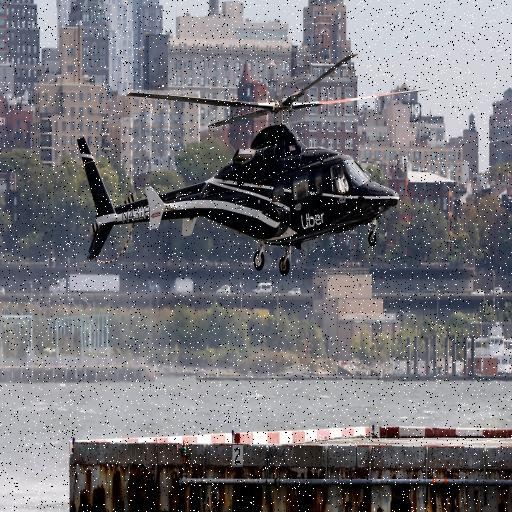helicopter: (75, 45, 417, 282)
